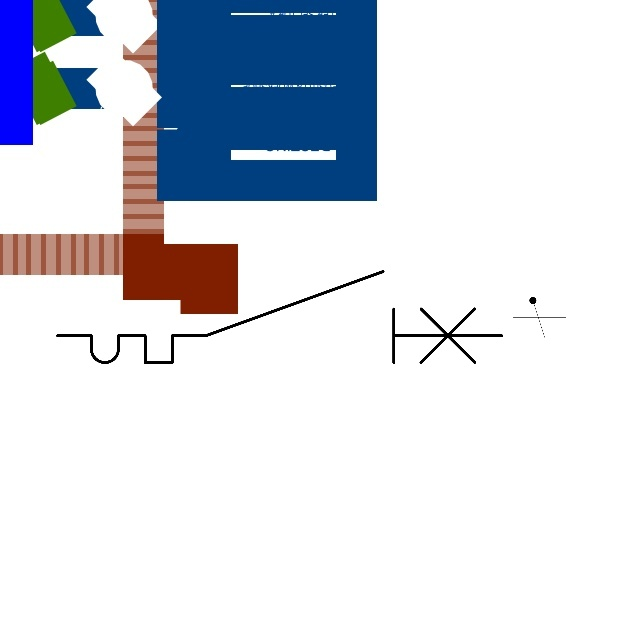interruptor_termomagnetico: (46, 260, 513, 374)
